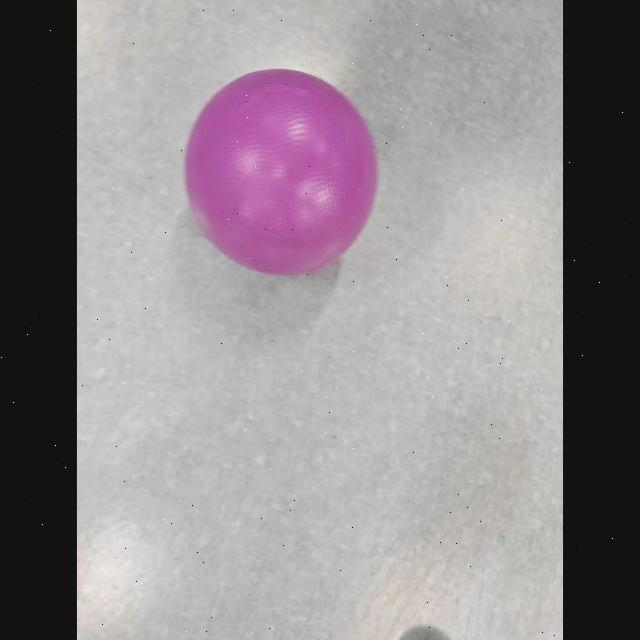P: (184, 62, 378, 276)
